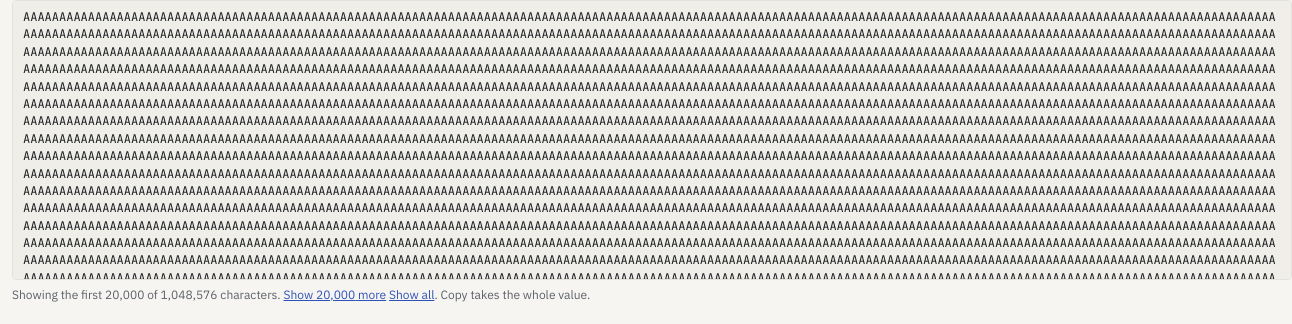
Test: a very long line › is drawn twenty thousand characters at a time, with the size said and a way to the rest
Expected: the text "Showing the first 20,000 of 1,048,576 characters" is shown, [12,286,590,303]
Click the button "Show 20,000 more". click: (335, 295)
box: [284,286,386,303]
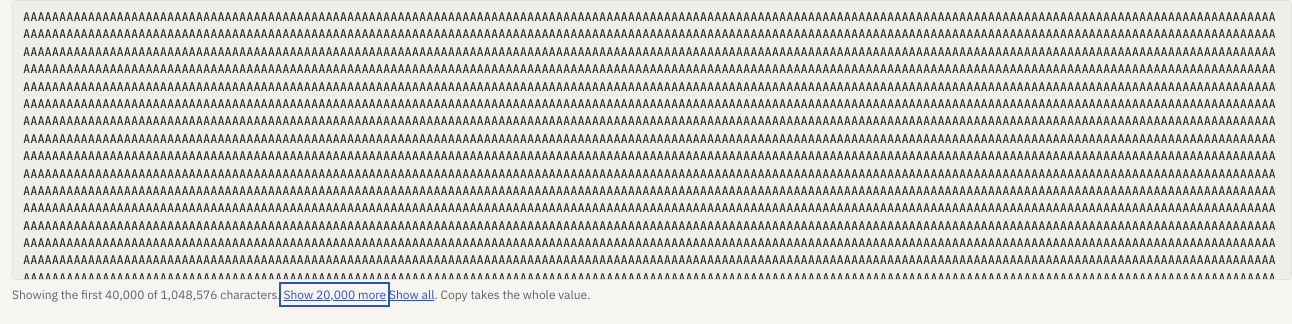
Click the button "Show all". click: (412, 295)
box: [389,286,434,303]
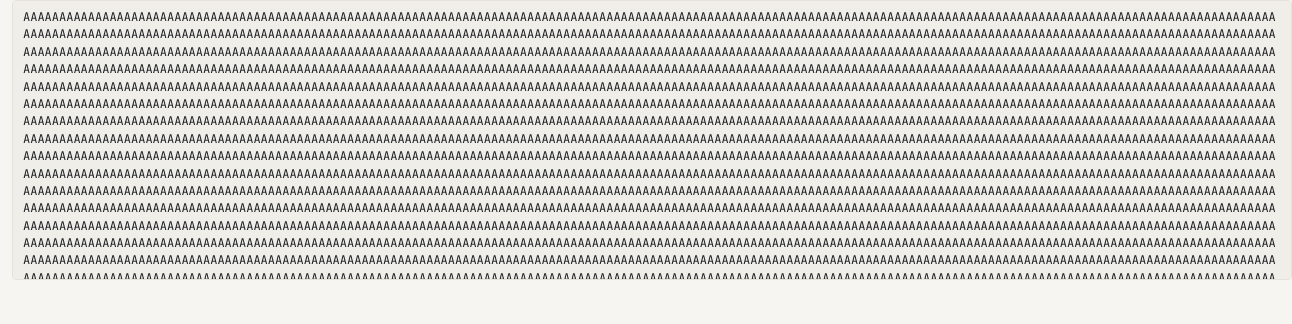
Now the button "Show all" is gone
